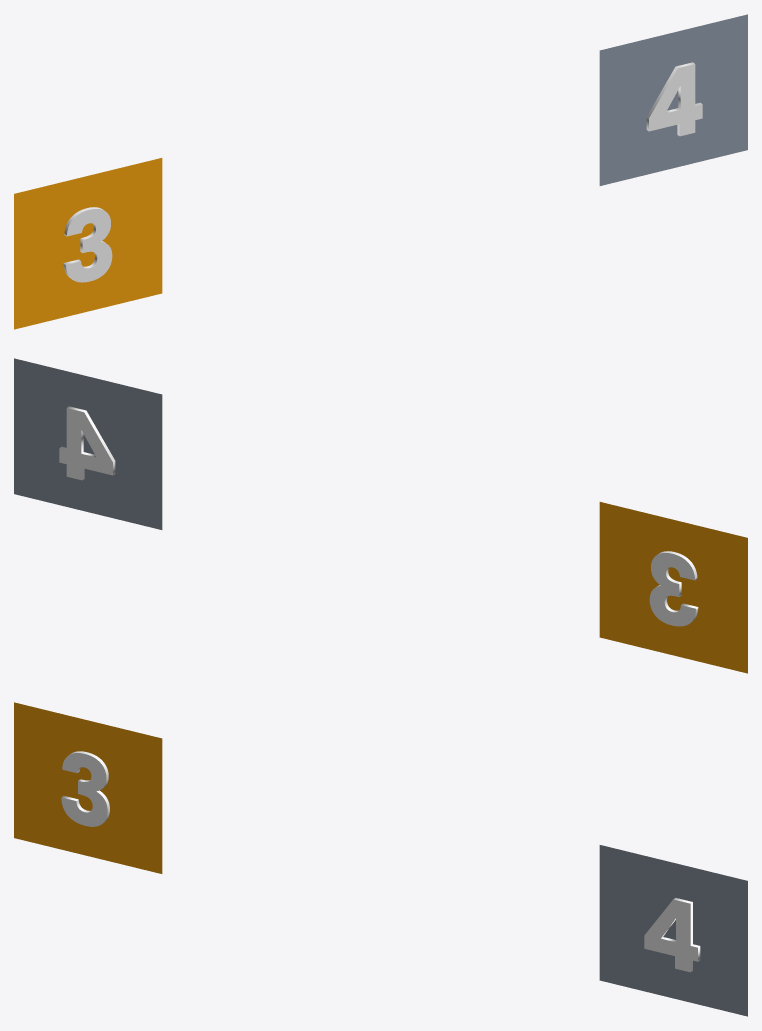
The model's file is sayi2.gltf.
3 renders of one model, top to bottom at view 1: azimuth 30°, elevation 25°; view 2: azimuth 150°, elevation 25°; view 3: azimuth 330°, elevation 25°, orthographic.
Visible parts, largest first — view 1: Plane.022, Plane.023, Text.010, Text.008; view 2: Plane.022, Plane.023, Text.010, Text.008; view 3: Plane.022, Plane.023, Text.010, Text.008.
Part boxes in pixels (x1,y1,x2,y2): Plane.022: [14, 158, 162, 329]; Plane.023: [599, 14, 747, 185]; Text.010: [646, 62, 702, 136]; Text.008: [63, 207, 112, 282]; Plane.022: [599, 502, 747, 673]; Plane.023: [14, 358, 162, 529]; Text.010: [59, 406, 115, 480]; Text.008: [649, 551, 698, 626]; Plane.022: [14, 702, 162, 873]; Plane.023: [599, 845, 747, 1016]; Text.010: [644, 898, 700, 972]; Text.008: [61, 751, 109, 826].
Size of the model in its own units: 0.396 by 0.0702 by 0.00435.
